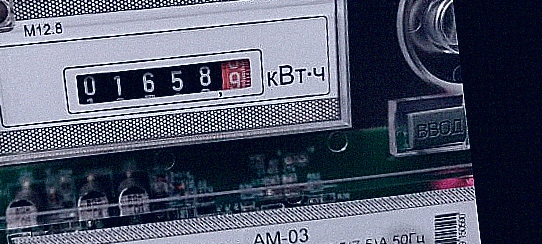0: (81, 73, 96, 96)
1: (111, 73, 123, 96)
5: (168, 67, 184, 91)
6: (139, 69, 155, 93)
8: (195, 63, 212, 86)
9: (224, 68, 241, 91)
screen: (55, 38, 273, 122)
